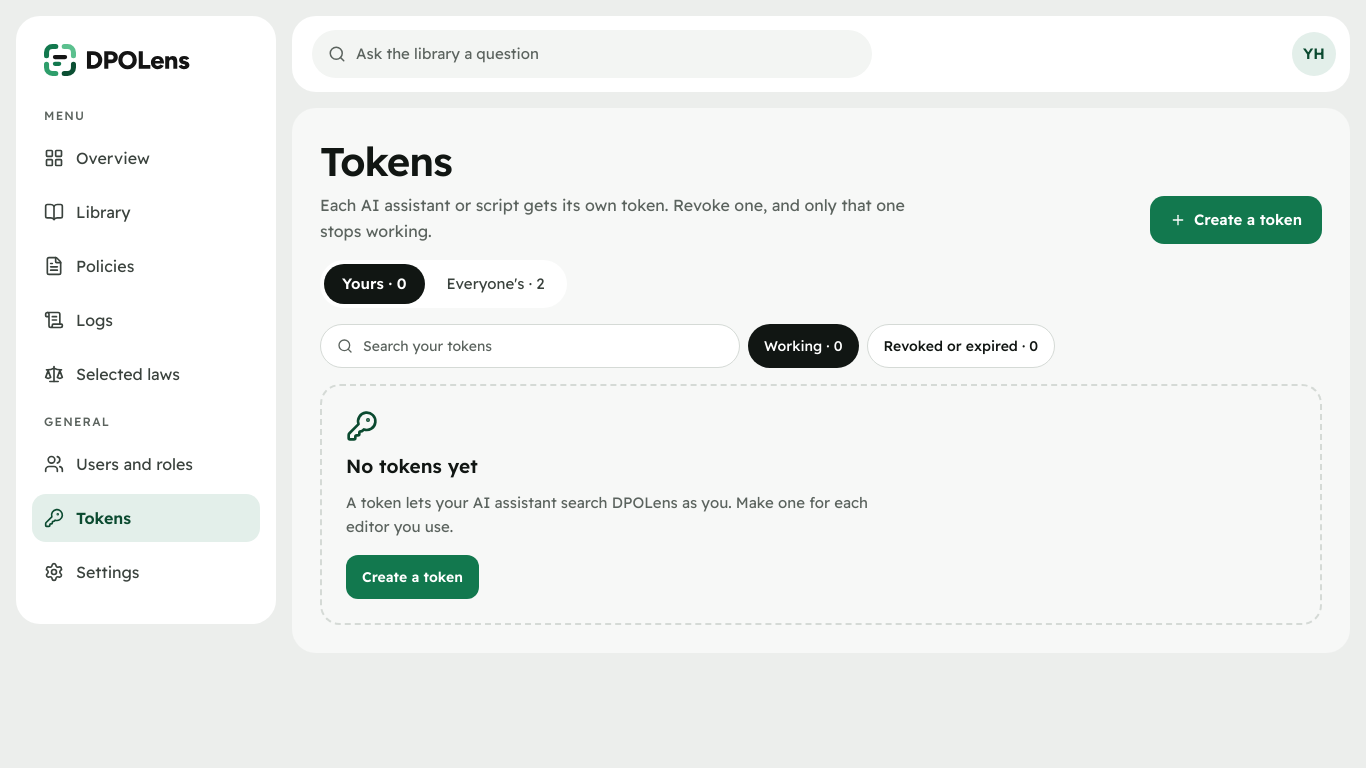
Test: tokens › strikes out what a token no longer may do, and warns before revoking the MCP server's
The width and height of the screenshot is (1366, 768).
Click the button "Everyone's · 2": {"x": 496, "y": 284} [428,264,562,304]
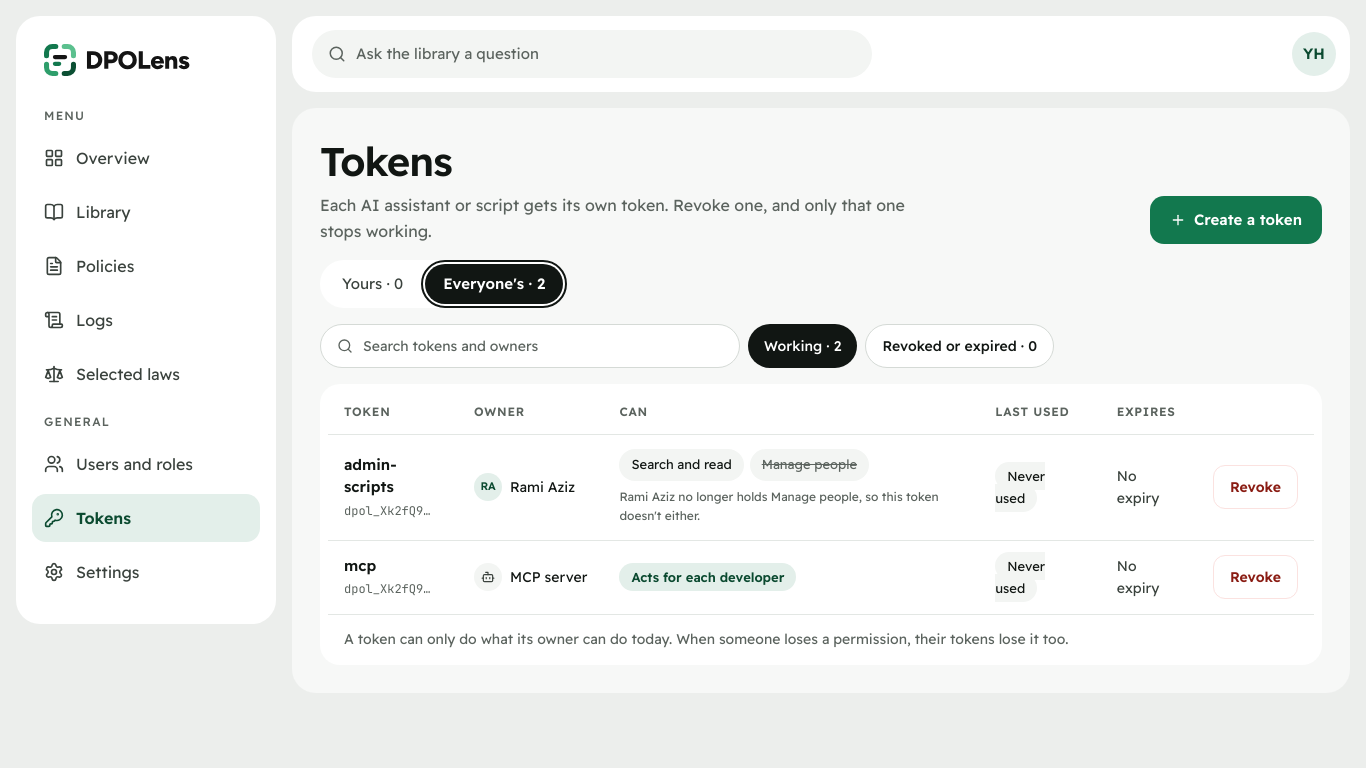
Expected: the text "Rami Aziz no longer holds Manage people, so this token doesn't either." is shown, [619,486,963,526]
Click the button with aria-label "Revoke mcp": {"x": 1256, "y": 577} [1213,555,1298,599]
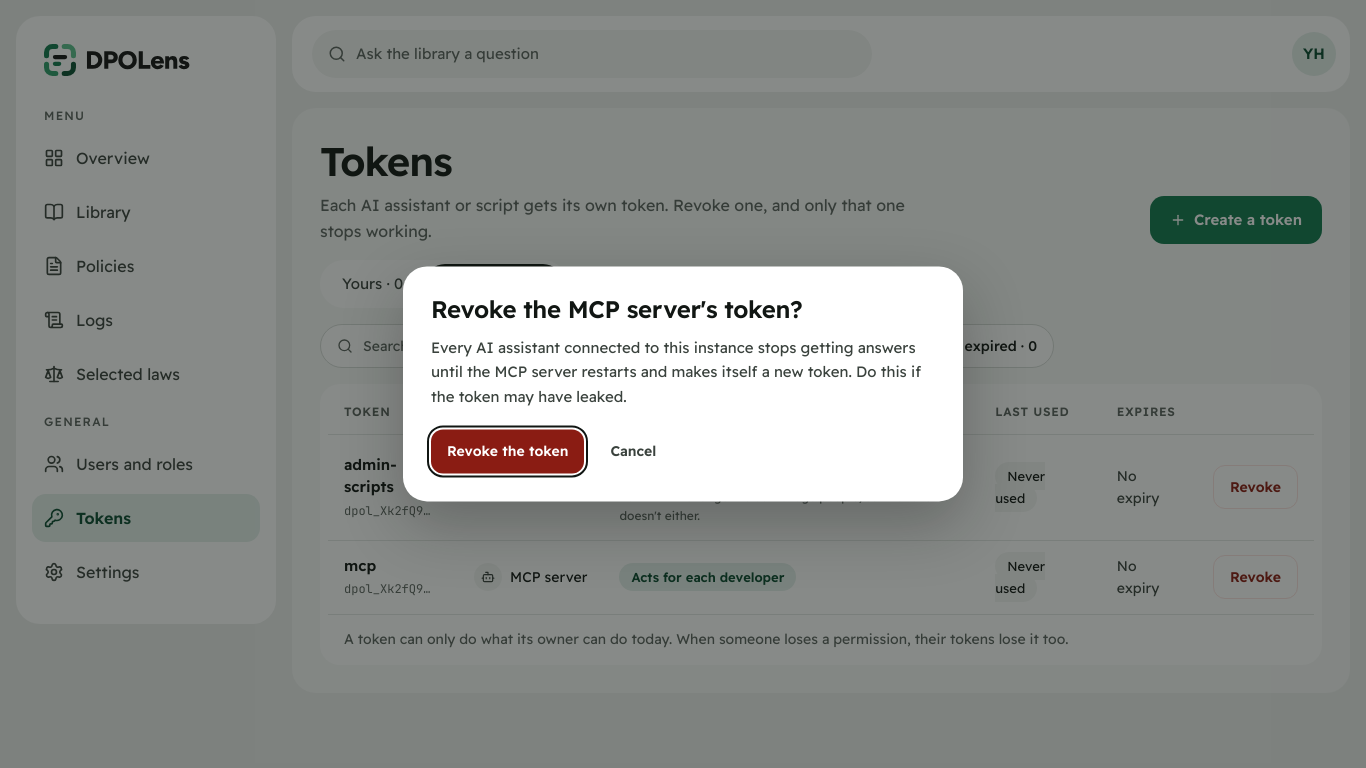
Expected: the dialog "Revoke the MCP server's token?" is shown, [403,266,963,502]
